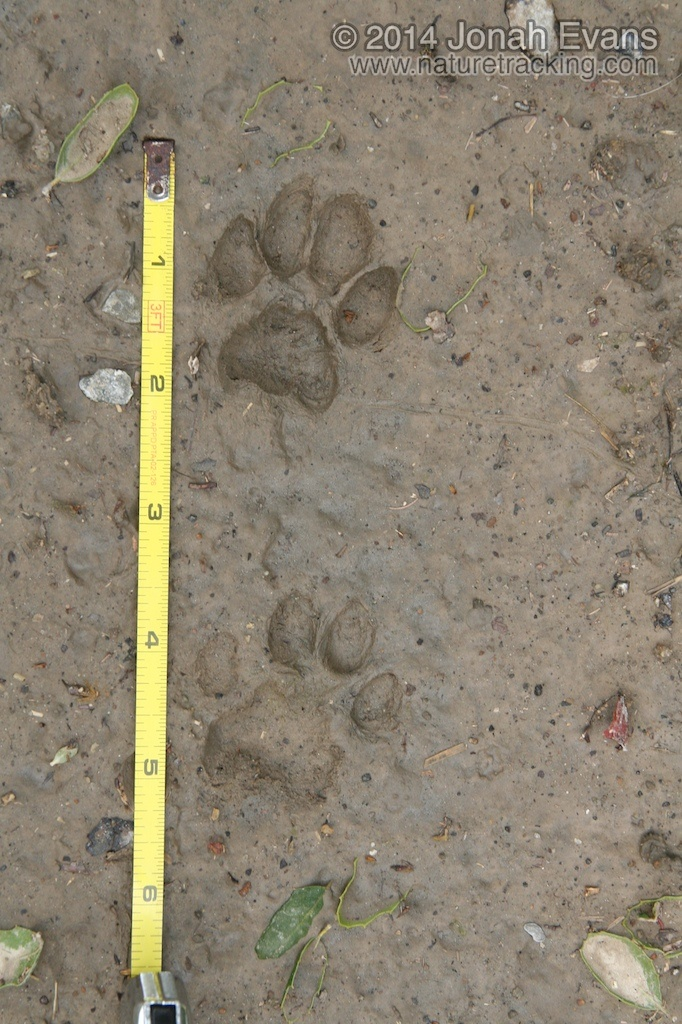lynx: (163, 163, 422, 470), (150, 580, 423, 830)
